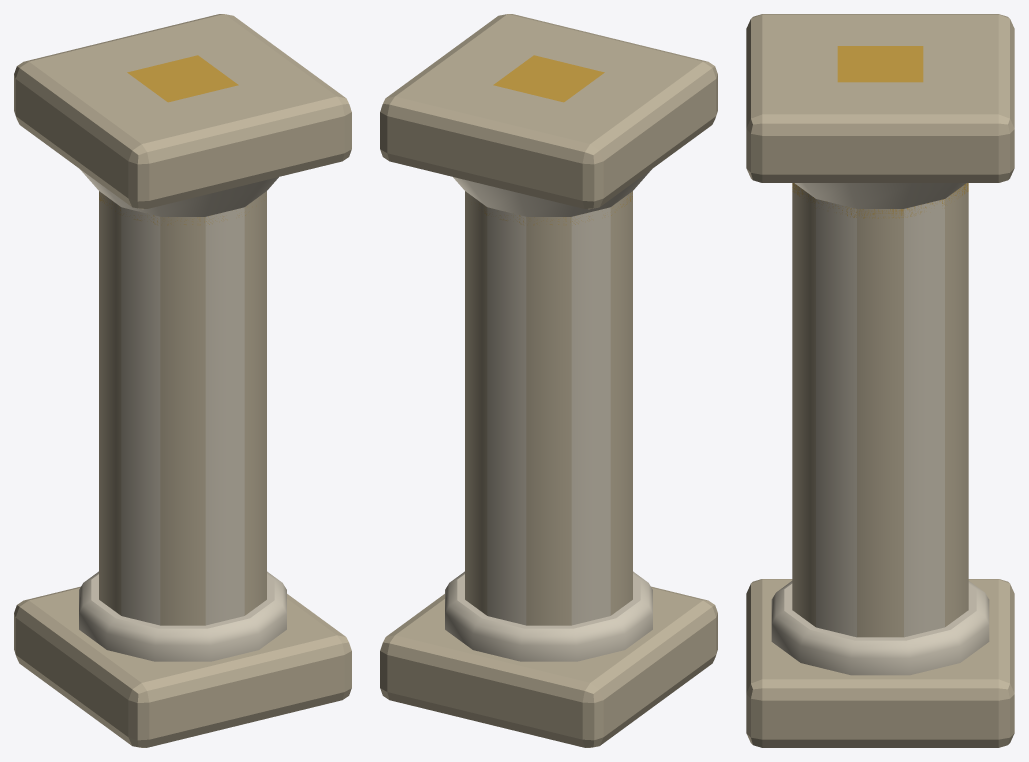
Rendered from museum-post.glb.
3 renders of one model, left to right at view 1: azimuth 30°, elevation 25°; view 2: azimuth 150°, elevation 25°; view 3: azimuth 270°, elevation 25°, orthographic. The views are drawn at different scales.
Parts seen in each view (by area): view 1: museum-post; view 2: museum-post; view 3: museum-post.
Part boxes in pixels (left/top/right/bottom): museum-post: left=14, top=14, right=351, bottom=747; museum-post: left=380, top=14, right=717, bottom=747; museum-post: left=746, top=14, right=1014, bottom=747.
Bounding box in the file's own units: 0.5 × 1.3 × 0.5.
